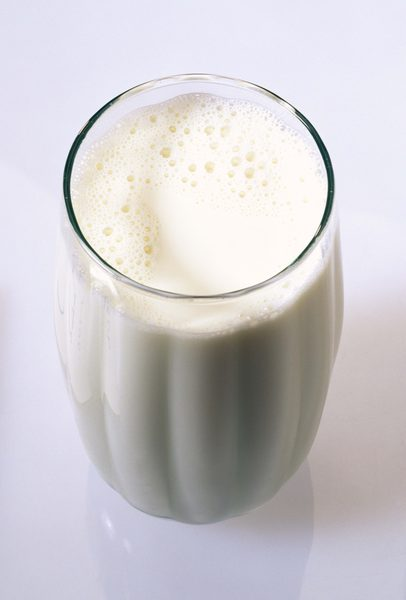glass of milk: (56, 71, 344, 526)
